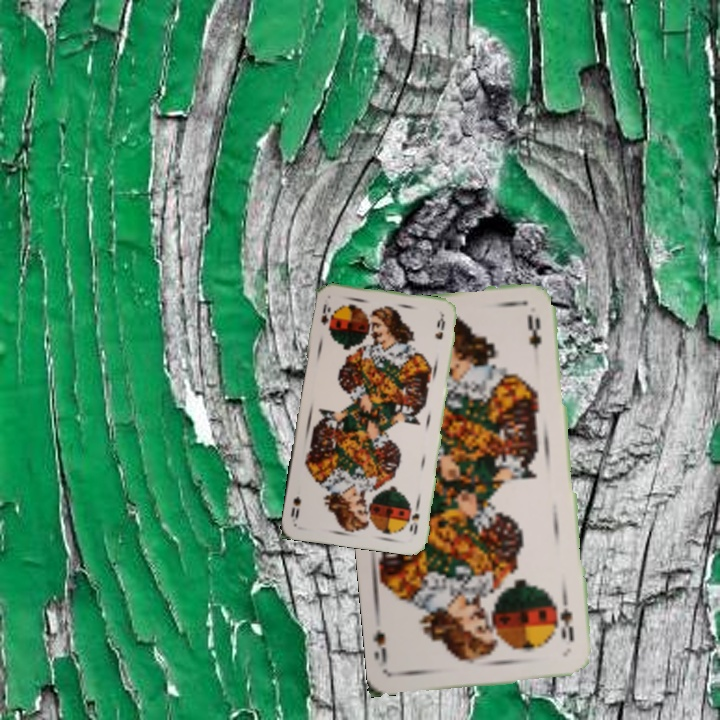SO: (556, 594, 577, 645), (405, 499, 422, 537), (317, 300, 333, 328)
